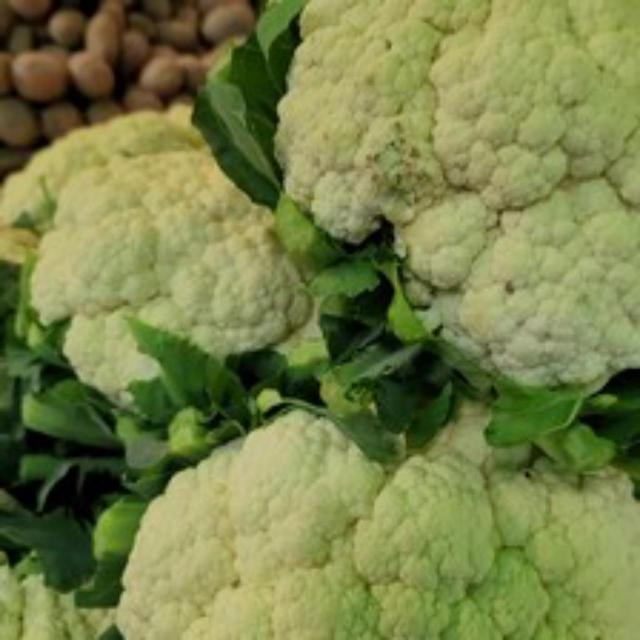cauliflower: (283, 0, 637, 386), (2, 102, 314, 406)
